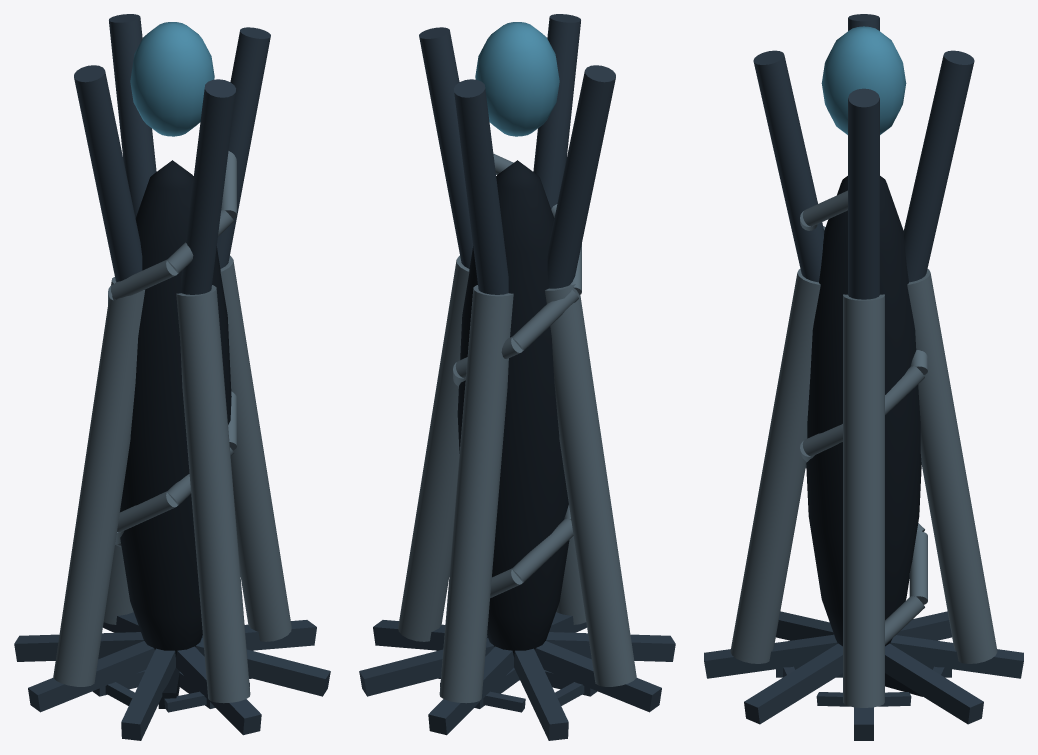
The model's file is CMU3DHiveHivePylonXeno.glb.
3 views of the same model, side by side, from view 1: azimuth 30°, elevation 25°; view 2: azimuth 150°, elevation 25°; view 3: azimuth 270°, elevation 25° (orthographic).
Parts seen in each view (by area): view 1: curved lower prong (×4), central resin stalk, upper prong (×4), anchoring root (×6), pylon crown, spiral pylon ridge (×4), branching ground filament; view 2: curved lower prong (×4), central resin stalk, upper prong (×4), anchoring root (×6), pylon crown, spiral pylon ridge (×3), branching ground filament; view 3: curved lower prong (×3), central resin stalk, upper prong (×3), anchoring root (×7), pylon crown, spiral pylon ridge (×5).
Part boxes in pixels (<box>): curved lower prong (×4): <box>53,255,291,703</box>; central resin stalk: <box>120,160,231,656</box>; upper prong (×4): <box>74,14,270,294</box>; anchoring root (×6): <box>14,620,330,740</box>; pylon crown: <box>130,22,214,136</box>; spiral pylon ridge (×4): <box>111,151,236,532</box>; branching ground filament: <box>164,691,206,712</box>; curved lower prong (×4): <box>398,255,636,703</box>; central resin stalk: <box>457,160,569,656</box>; upper prong (×4): <box>419,14,615,294</box>; anchoring root (×6): <box>359,620,675,740</box>; pylon crown: <box>475,22,559,136</box>; spiral pylon ridge (×3): <box>490,290,578,598</box>; branching ground filament: <box>483,691,525,712</box>; curved lower prong (×3): <box>730,269,997,707</box>; central resin stalk: <box>806,176,921,646</box>; upper prong (×3): <box>753,50,974,299</box>; anchoring root (×7): <box>704,611,1023,740</box>; pylon crown: <box>821,26,906,134</box>; spiral pylon ridge (×5): <box>802,190,927,644</box>.
Size of the model in its own units: 0.9085 by 2.03 by 0.9085.
